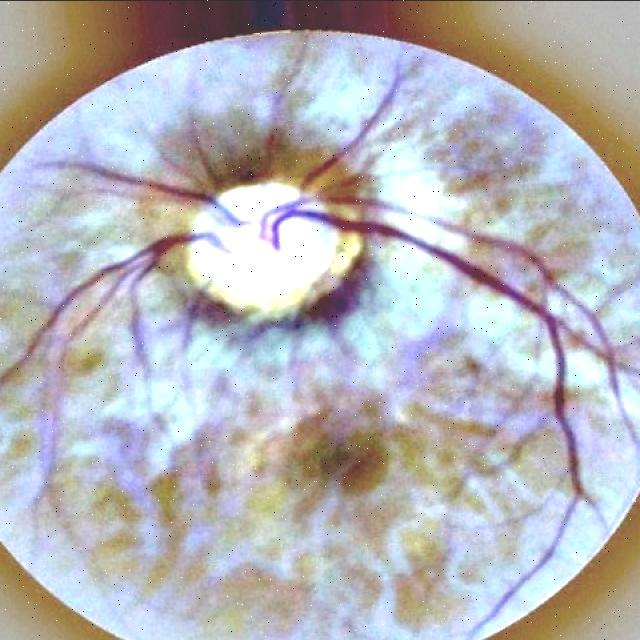Macula: (283, 408, 381, 516)
Nerves: (6, 225, 234, 384), (269, 208, 551, 334), (67, 159, 246, 225)
Optic Disk: (187, 184, 359, 315)
